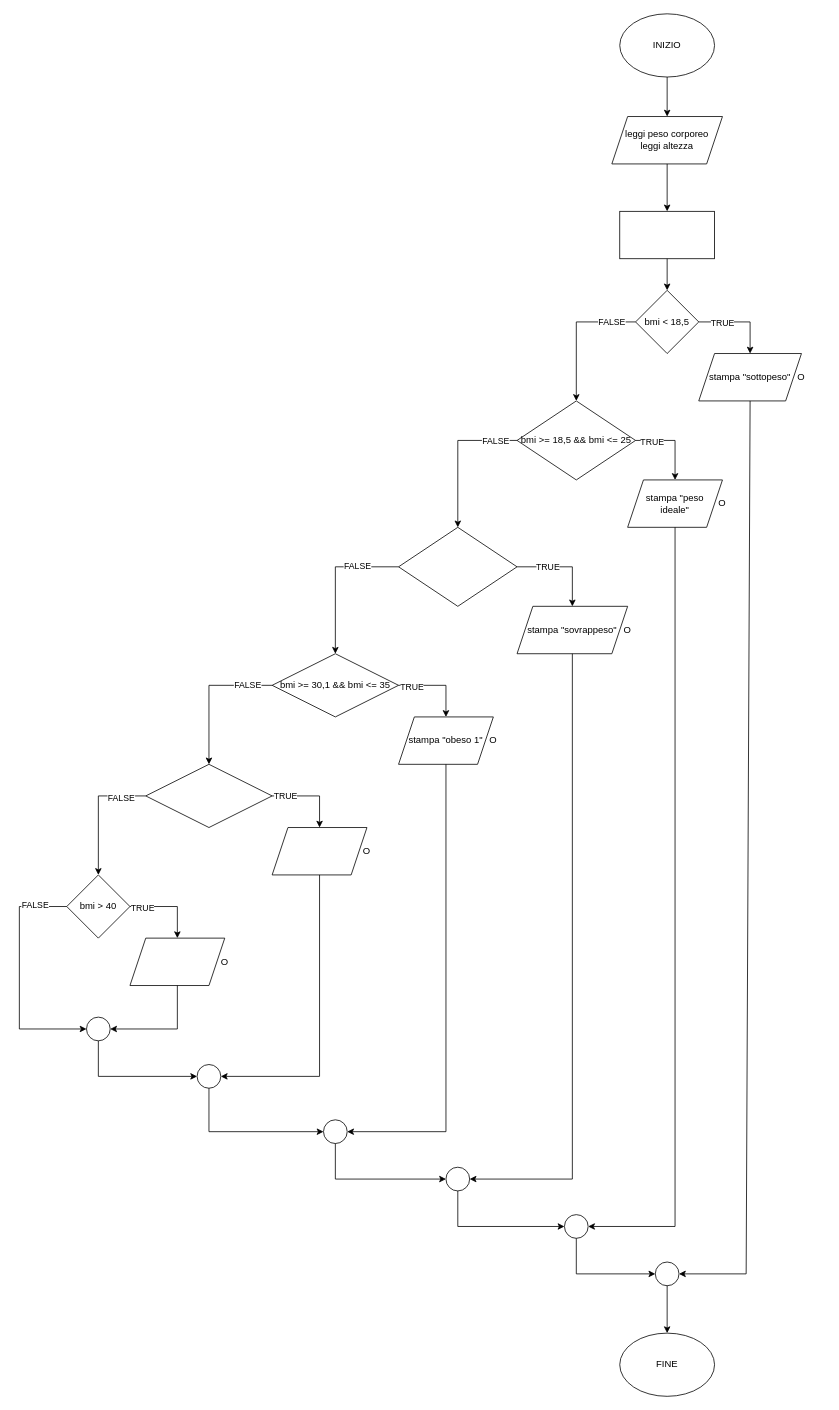
This 839x1410 diagram has some shape labels left out. Here are the shapes that lost their labels. From the top down, the box of each, then its label:
(619, 211, 715, 259): bmi = peso corporeo / (altezza * altezza)
(398, 527, 517, 606): bmi >= 25,1 && bmi <= 30
(145, 764, 272, 828): bmi >= 35,1 && bmi <= 40
(271, 827, 367, 875): stampa "obeso 2"
(129, 937, 225, 986): stampa "obeso 3"
